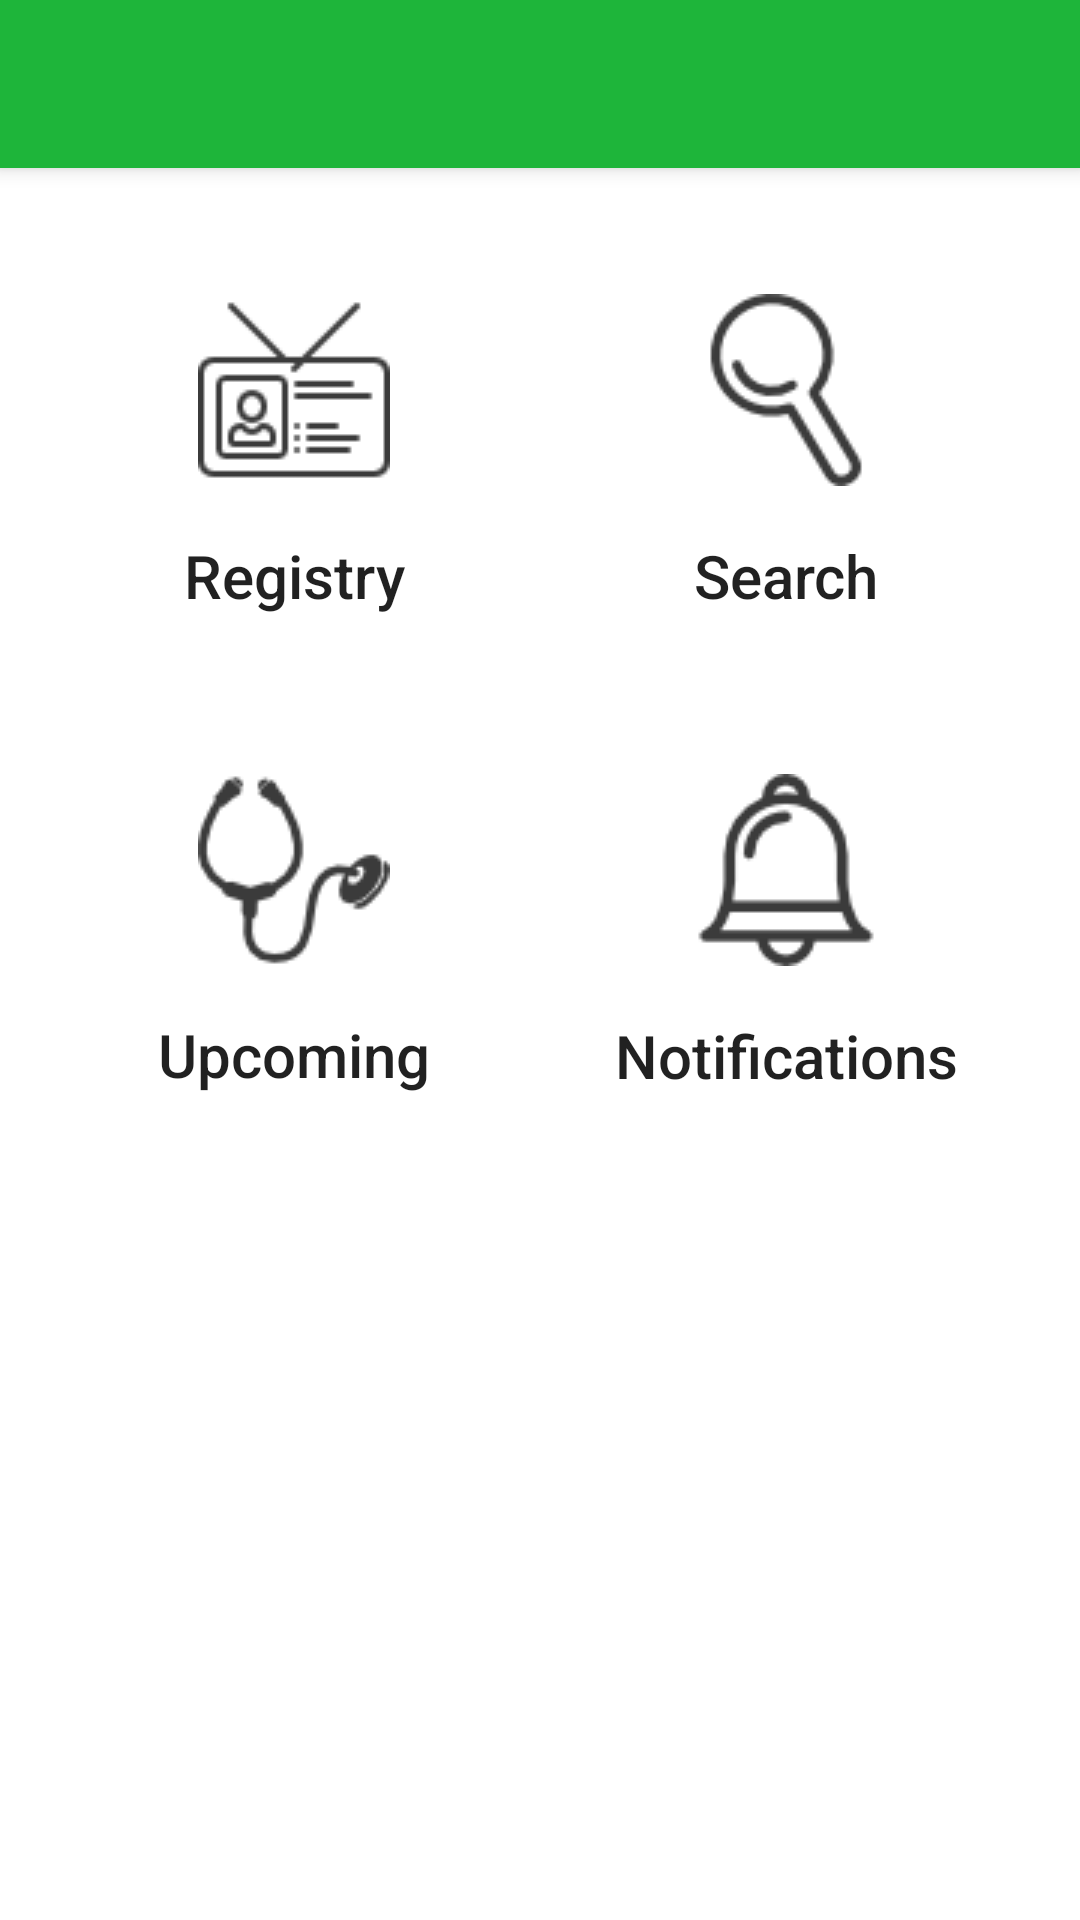

Locate icon controls on the screen. Image size 1080 x 1920, boxes as (x1, y1, x2, y2).
notificaitons: (698, 774, 874, 966)
